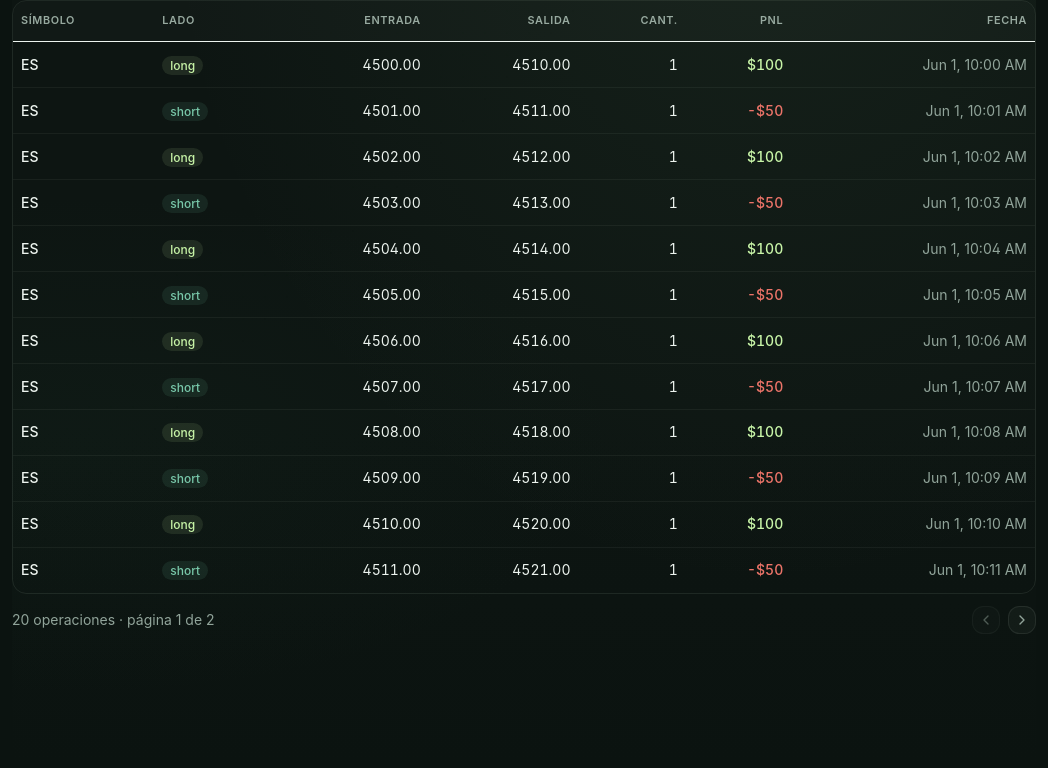
it: TradesTable › renders trades and paginates beyond the page size
Expected: the text "20 operaciones · página 1 de 2" is shown, [12,610,214,630]
Expected: the button named "Página anterior" is disabled, [972,606,1000,634]
What coordinates should you click on to do the following:
click the button named "Página siguiente"
I would click on:
 (1022, 620)
Its box is [1008,606,1036,634].
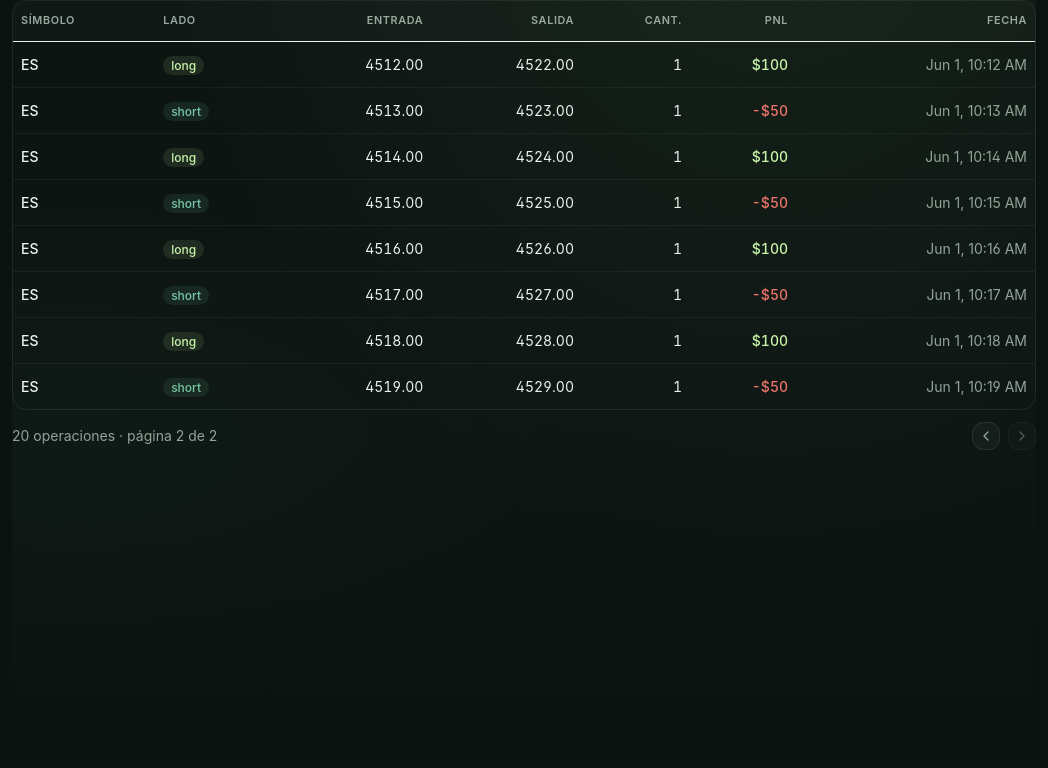
Now the text "20 operaciones · página 2 de 2" is shown, box [12,426,217,446]
